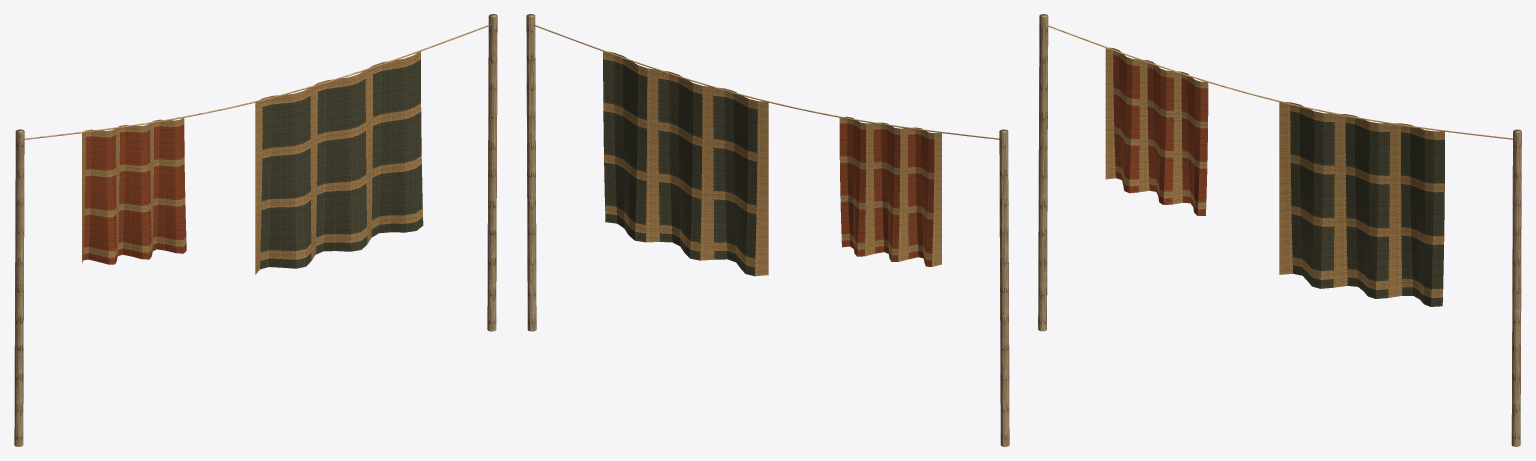
Rendered from prop_clothesline.glb.
3 renders of one model, left to right at view 1: azimuth 30°, elevation 25°; view 2: azimuth 150°, elevation 25°; view 3: azimuth 330°, elevation 25°, orthographic.
Visible parts, largest first — view 1: prop_clothesline; view 2: prop_clothesline; view 3: prop_clothesline.
Boxes of the visible parts, x1,y1,x2,y2 form: prop_clothesline: (14, 14, 497, 446); prop_clothesline: (526, 14, 1009, 446); prop_clothesline: (1038, 14, 1521, 446).
Bounding box in the file's own units: 3.06 × 1.9 × 0.1112.
Materials: 5 (5 with a texture image).
